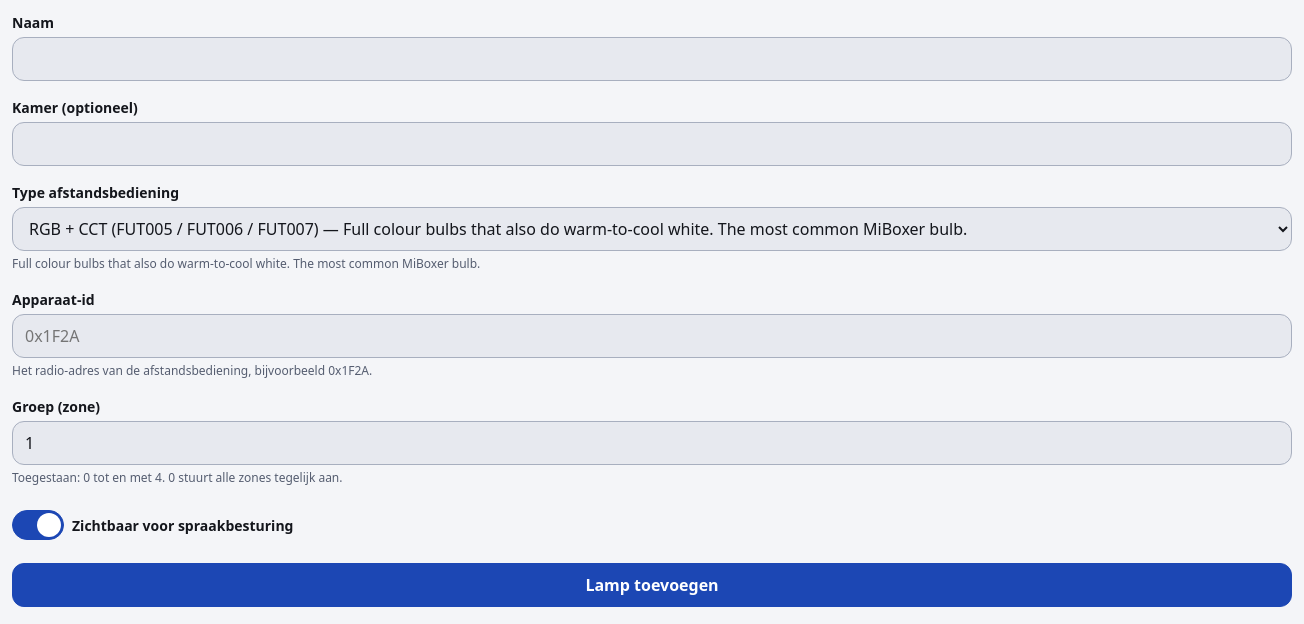
it: AddLightForm › shows the hint of the selected remote type and the allowed group range
The width and height of the screenshot is (1304, 624).
Select "RGB only (FUT098 style) — Colour only, single zone. Brightness can only be stepp" in the dropdown labelled "Type afstandsbediening" at (652, 229), box top-left (12, 207), bottom-right (1292, 251)
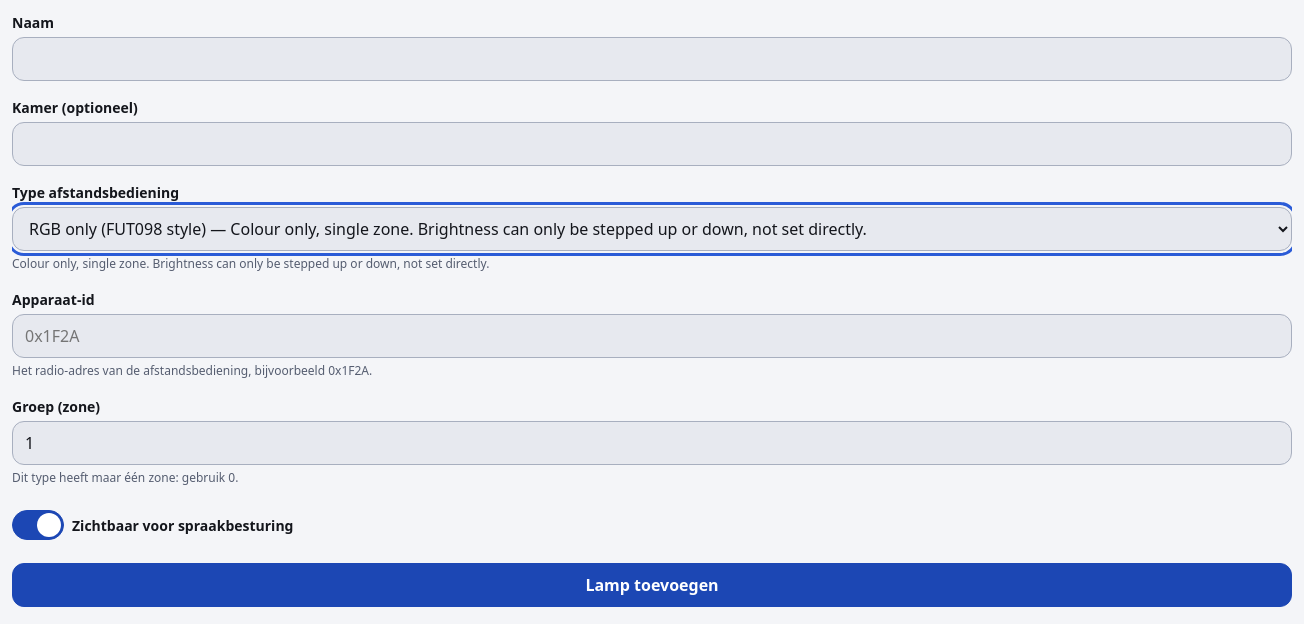
Result: the text "Dit type heeft maar één zone: gebruik 0." is shown at top-left (12, 469), bottom-right (238, 486)
